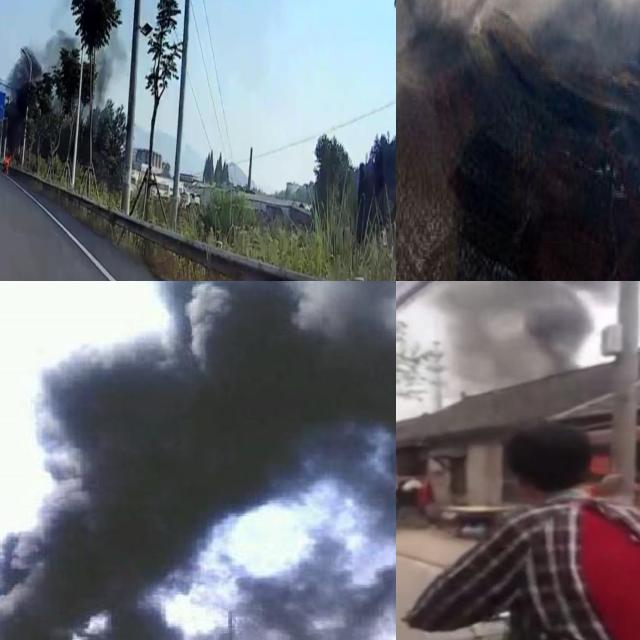fire: (2, 149, 13, 168)
smoke: (0, 281, 396, 640), (4, 0, 209, 150), (396, 0, 640, 97), (459, 281, 615, 360)
